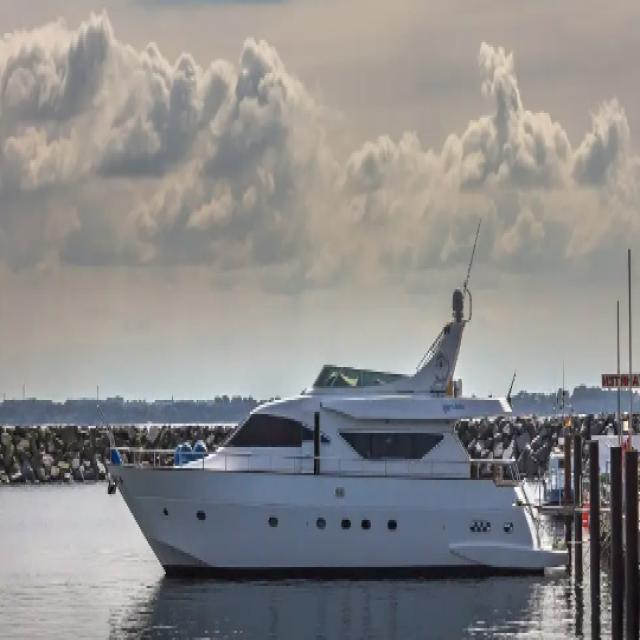houseboat: (100, 283, 562, 594)
